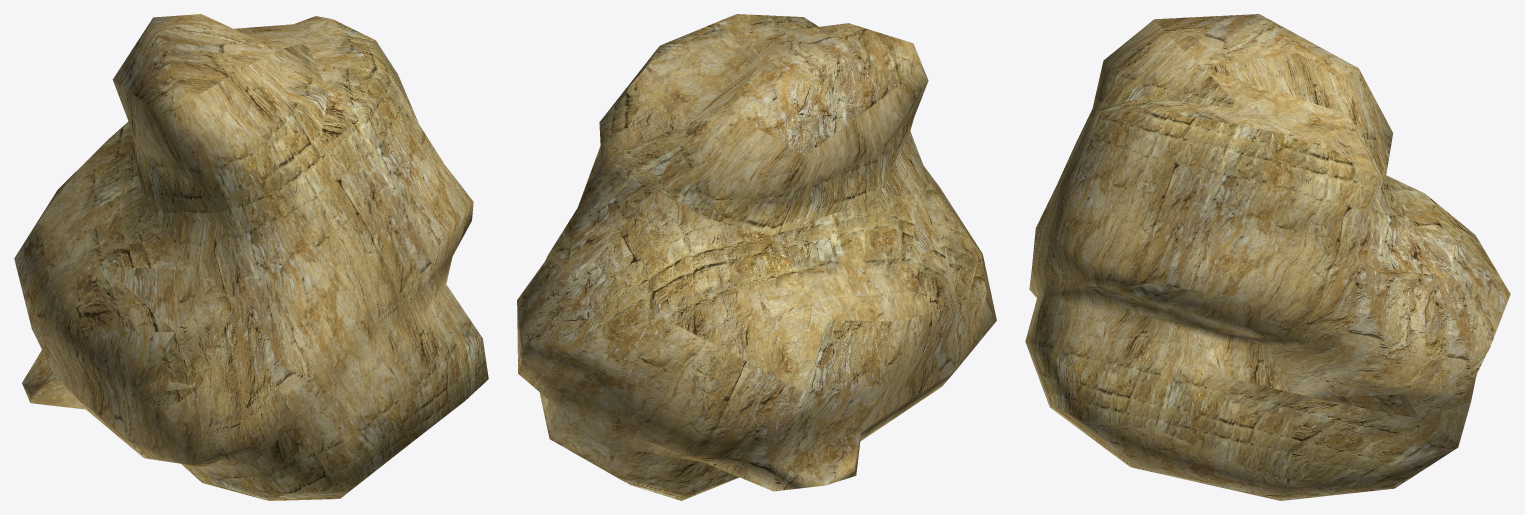
The model's file is Boulder19.dae.
The picture shows the model from 3 angles, left to right: view 1: azimuth 30°, elevation 25°; view 2: azimuth 150°, elevation 25°; view 3: azimuth 270°, elevation 25°; orthographic projection. The views are drawn at different scales.
Parts seen in each view (by area): view 1: rock0; view 2: rock0; view 3: rock0.
Boxes of the visible parts, left/top/right/bottom form: rock0: left=14, top=14, right=488, bottom=500; rock0: left=517, top=14, right=996, bottom=500; rock0: left=1025, top=14, right=1510, bottom=500.
Bounding box in the file's own units: 1.34 × 1.73 × 1.67.
